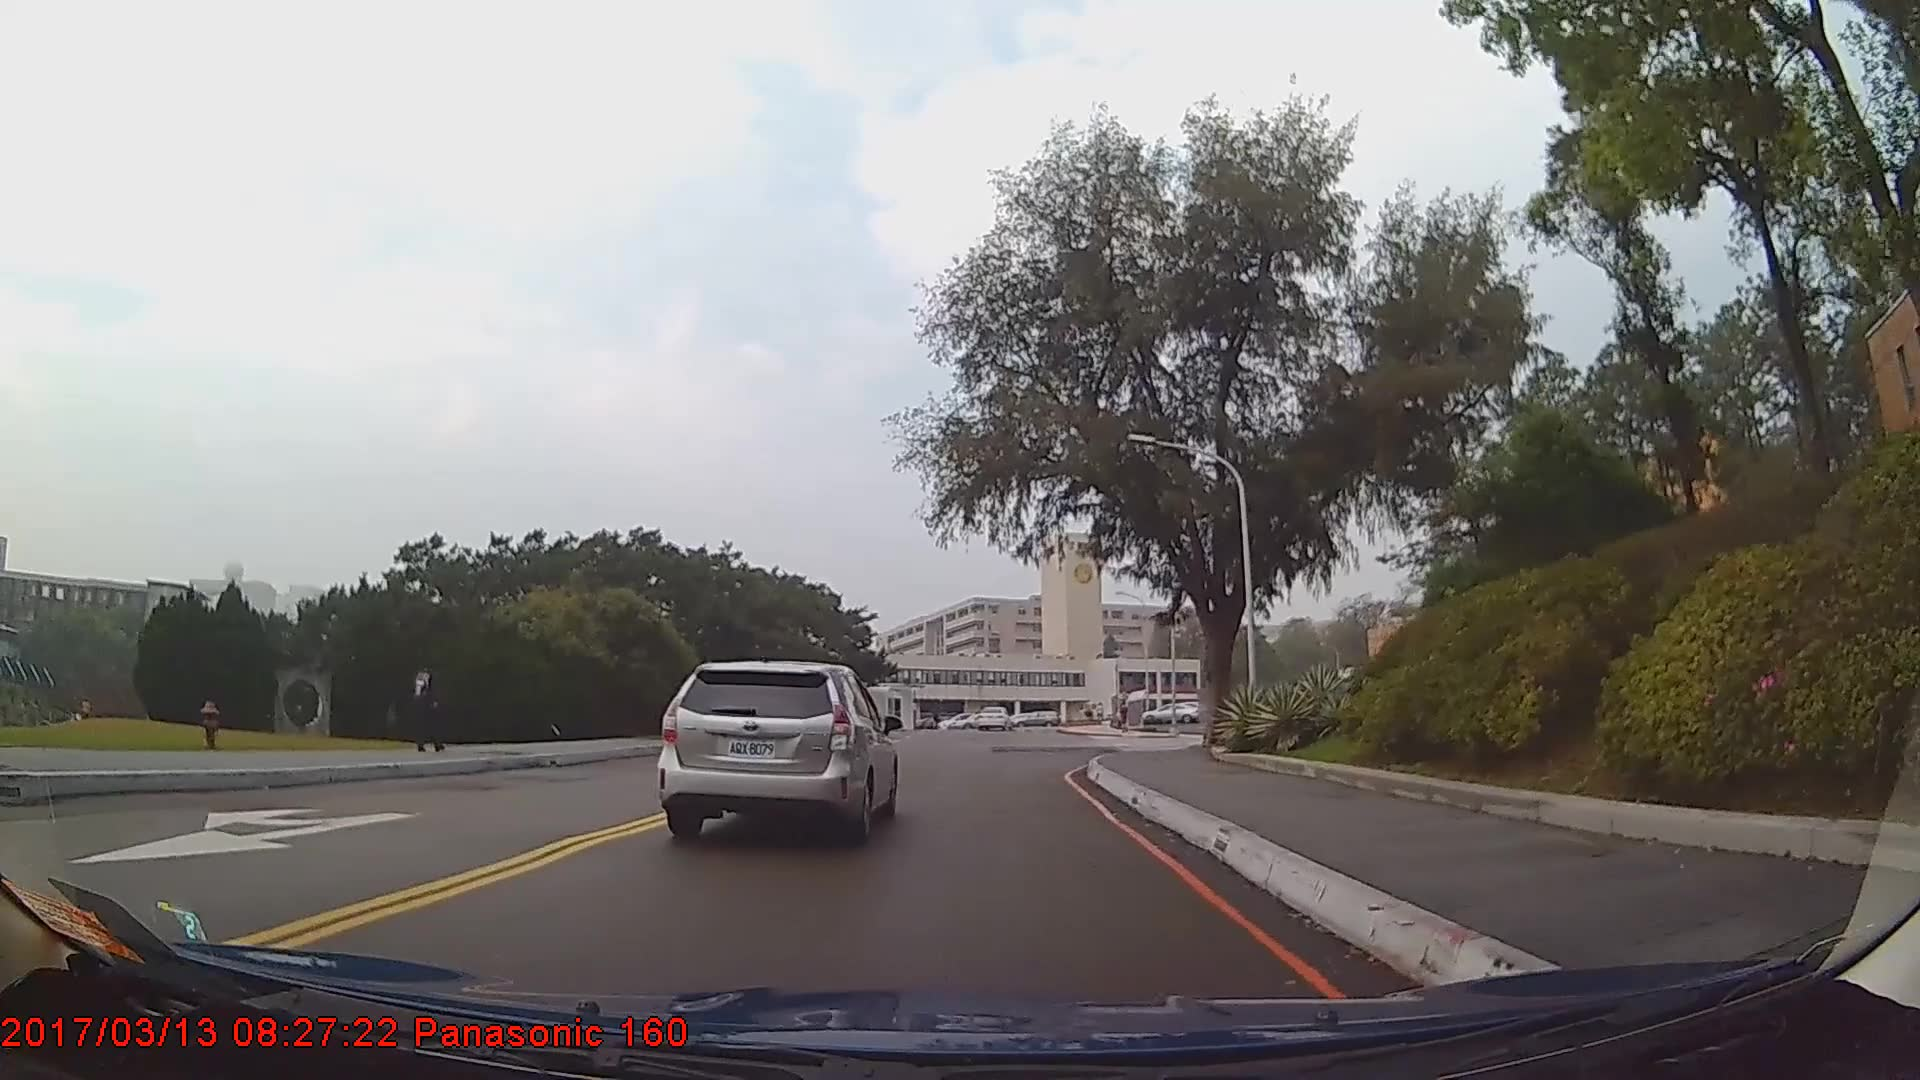pedestrian: (399, 655, 443, 754)
vehicle: (654, 658, 897, 844), (1138, 702, 1198, 724), (971, 702, 1010, 729)
